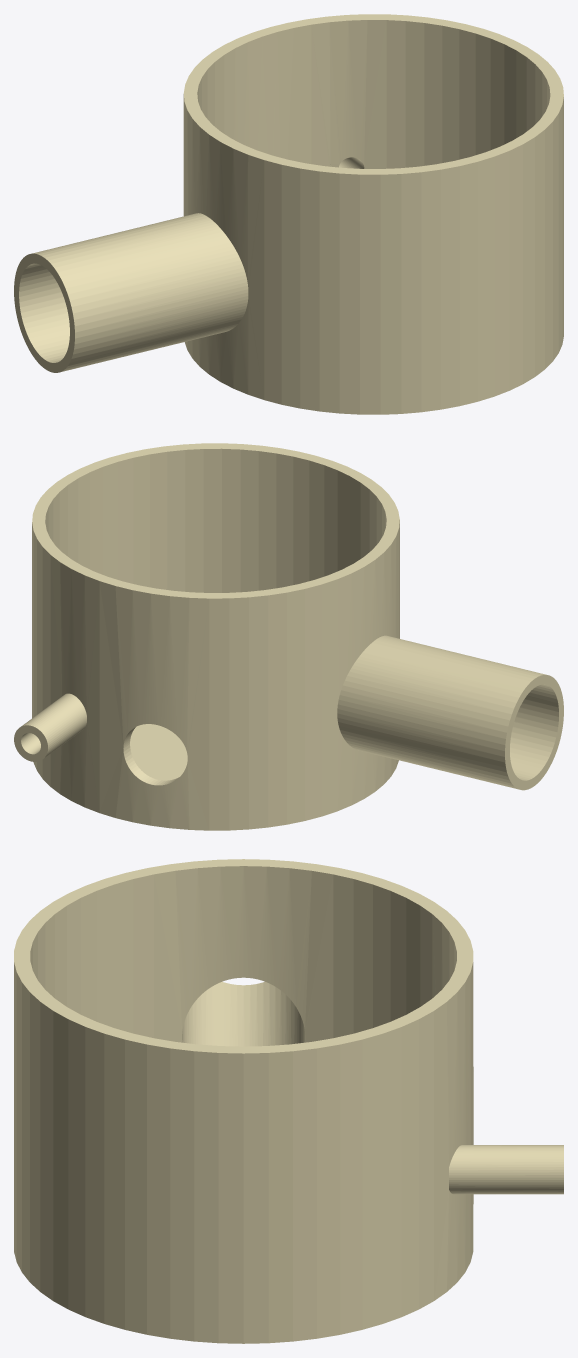
File: ps-pump-reservoir.glb
The picture shows the model from 3 angles, top to bottom: view 1: azimuth 30°, elevation 25°; view 2: azimuth 150°, elevation 25°; view 3: azimuth 270°, elevation 25°; orthographic projection. The views are drawn at different scales.
Visible parts, largest first — view 1: world; view 2: world; view 3: world.
Part boxes in pixels (<box>): world: <box>14,14,563,414</box>; world: <box>14,443,563,830</box>; world: <box>14,859,563,1343</box>.
Bounding box in the file's own units: 0.168 × 0.078 × 0.1339.
